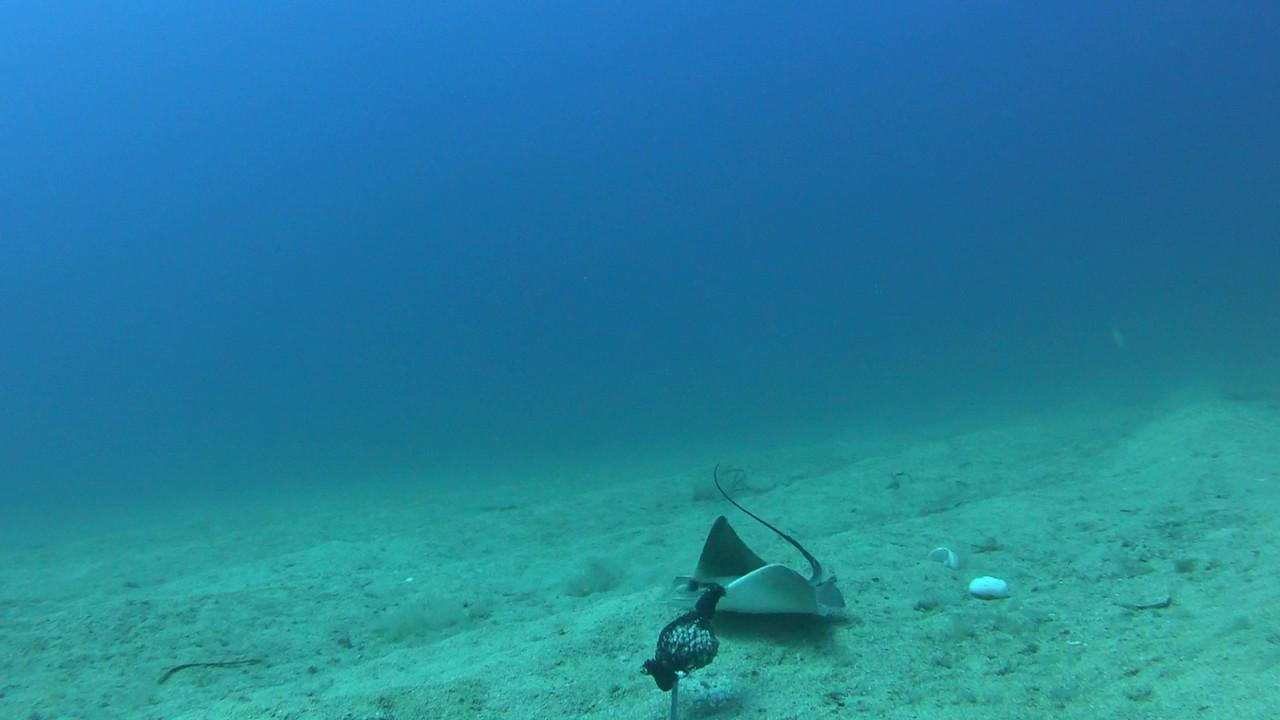myliobatis: (649, 456, 890, 627)
